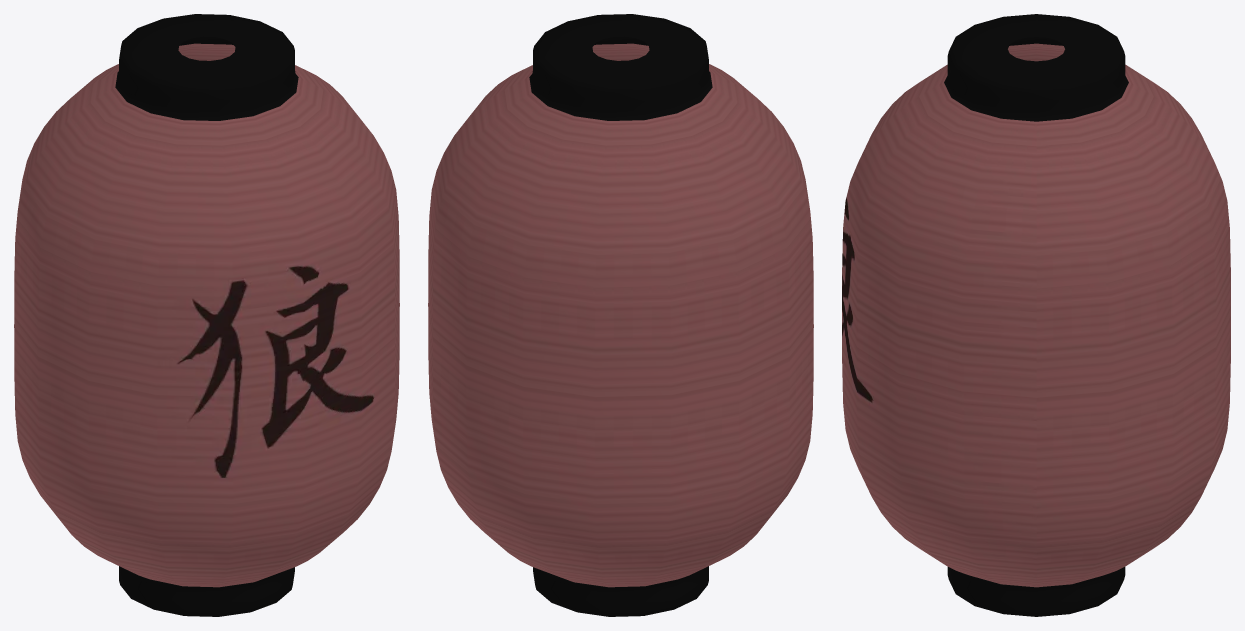
Rendered from paper-lantern-transformed.glb.
The picture shows the model from 3 angles, left to right: view 1: azimuth 30°, elevation 25°; view 2: azimuth 150°, elevation 25°; view 3: azimuth 270°, elevation 25°; orthographic projection.
Parts seen in each view (by area): view 1: Object_2; view 2: Object_2; view 3: Object_2.
Part boxes in pixels (bbox=[...]): Object_2: bbox=[14, 14, 399, 616]; Object_2: bbox=[428, 14, 813, 616]; Object_2: bbox=[842, 14, 1230, 616].
Bounding box in the file's own units: 1.23 × 1.85 × 1.23.
Materials: 1 (1 with a texture image).
